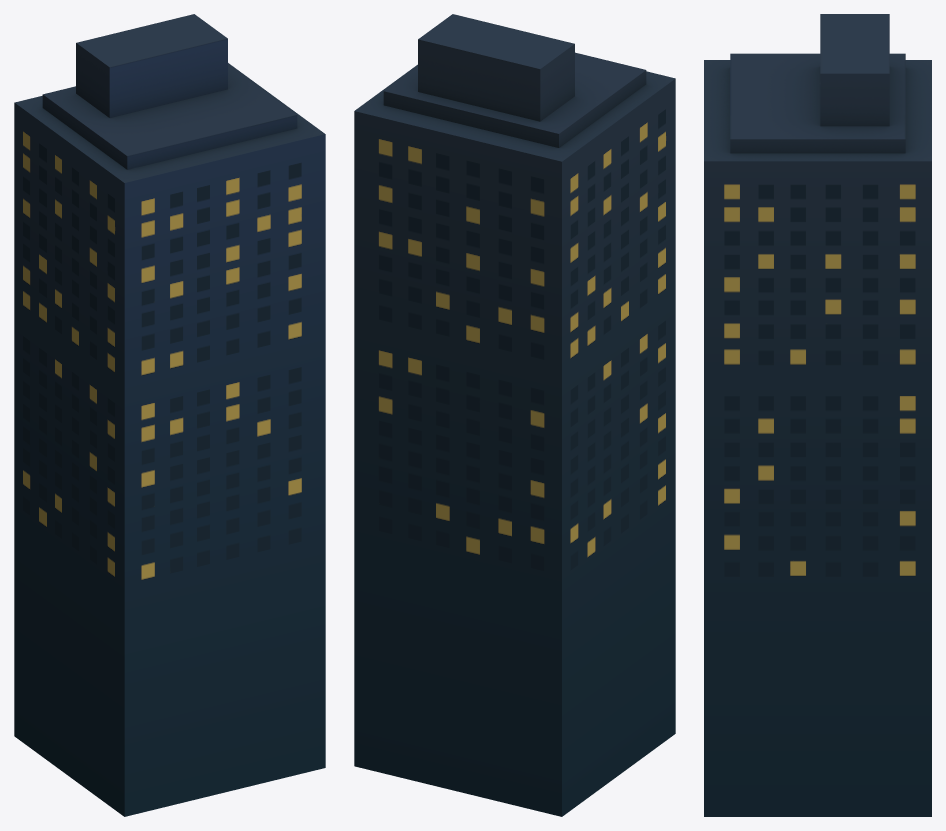
File: roof_back.fbx
3 renders of one model, left to right at view 1: azimuth 30°, elevation 25°; view 2: azimuth 150°, elevation 25°; view 3: azimuth 270°, elevation 25°, orthographic. The views are drawn at different scales.
Visible parts, largest first — view 1: pCube1; view 2: pCube1; view 3: pCube1.
Part boxes in pixels (left/top/right/bottom): pCube1: left=14, top=14, right=325, bottom=816; pCube1: left=354, top=14, right=675, bottom=816; pCube1: left=704, top=14, right=931, bottom=816.
Size of the model in its own units: 668 by 2217 by 633.
